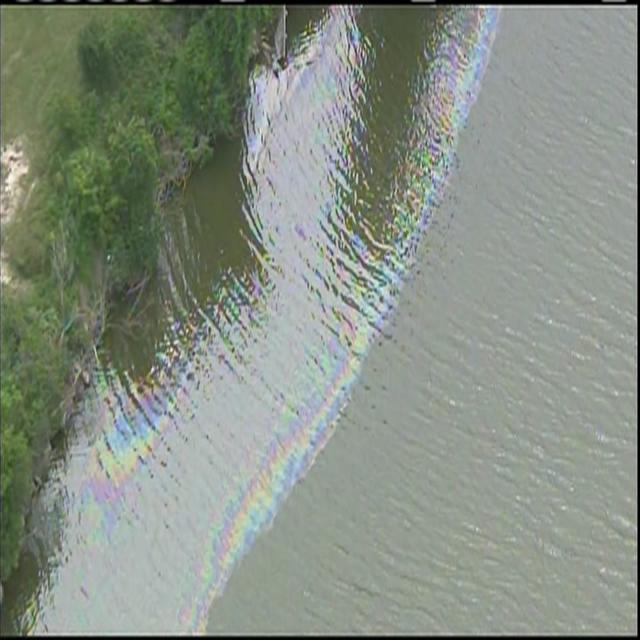sheen: (24, 4, 498, 635)
